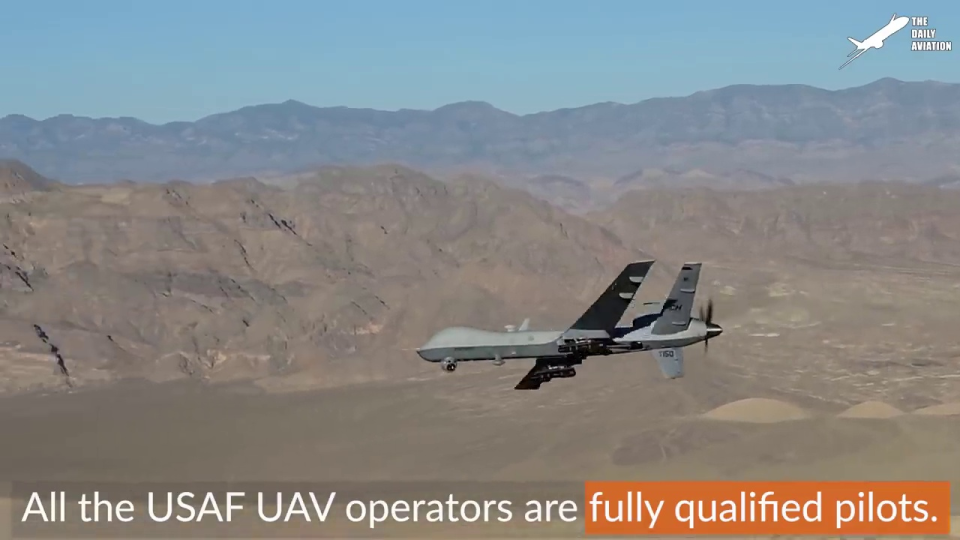military drone: (401, 258, 723, 390)
